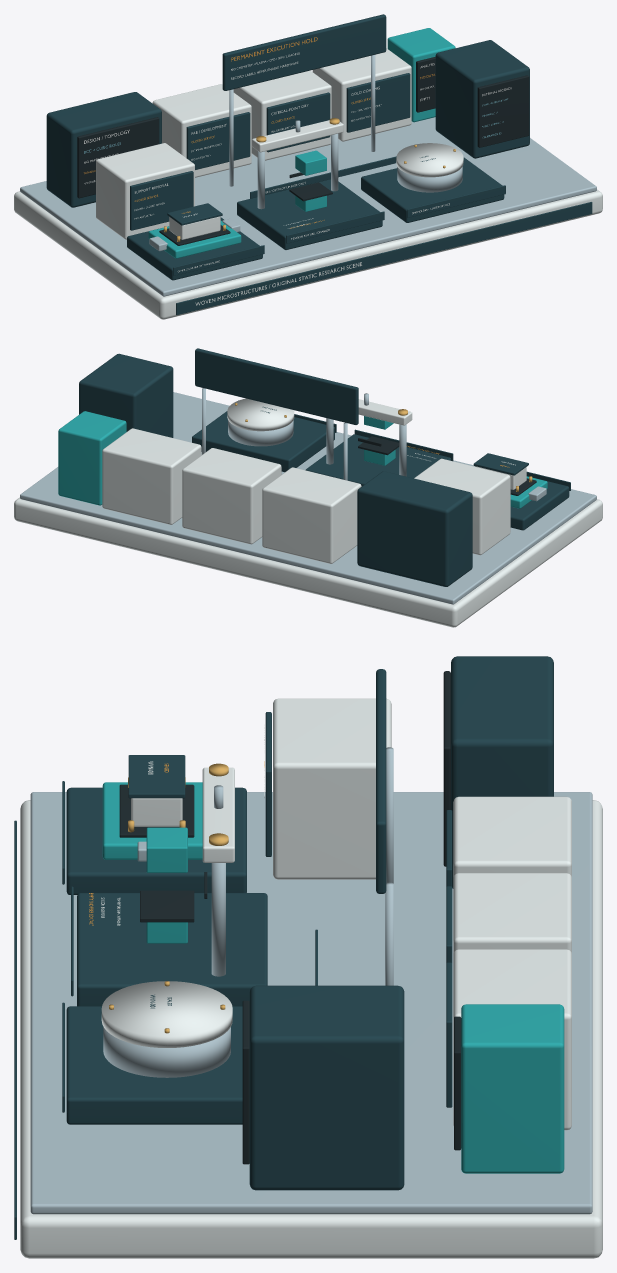
Rendered from woven_material_lab.glb.
3 renders of one model, top to bottom at view 1: azimuth 30°, elevation 25°; view 2: azimuth 150°, elevation 25°; view 3: azimuth 270°, elevation 25°, orthographic. The views are drawn at different scales.
Parts seen in each view (by area): view 1: bench.top, bench.base, records.body, hold.panel, design.body, bench.title.plate, tension.base, plasma.body, fab.body, sem.dock, cpd.body, coat.body (+27 smaller); view 2: bench.base, bench.top, design.body, fab.body, cpd.body, coat.body, hold.panel, records.body, analysis.body, plasma.body, sem.dock, tension.base (+9 smaller); view 3: bench.top, bench.base, records.body, plasma.body, analysis.body, tension.base, design.body, sem.dock, fab.body, cpd.body, carrier.dock, coat.body (+20 smaller).
Part boxes in pixels (left/top/right/bottom): bench.top: left=20, top=117, right=596, bottom=296; bench.base: left=14, top=189, right=602, bottom=319; records.body: left=435, top=40, right=529, bottom=158; hold.panel: left=222, top=14, right=386, bottom=90; design.body: left=46, top=92, right=161, bottom=207; bench.title.plate: left=176, top=202, right=592, bottom=315; tension.base: left=237, top=179, right=382, bottom=249; plasma.body: left=96, top=143, right=194, bottom=239; fab.body: left=152, top=84, right=251, bottom=177; sem.dock: left=361, top=157, right=504, bottom=222; cpd.body: left=233, top=70, right=331, bottom=160; coat.body: left=312, top=48, right=411, bottom=141; bench.base: left=14, top=497, right=602, bottom=627; bench.top: left=20, top=392, right=596, bottom=604; design.body: left=357, top=471, right=472, bottom=586; fab.body: left=262, top=467, right=361, bottom=563; cpd.body: left=182, top=448, right=281, bottom=544; coat.body: left=102, top=428, right=201, bottom=524; hold.panel: left=195, top=348, right=358, bottom=424; records.body: left=79, top=353, right=173, bottom=437; analysis.body: left=58, top=411, right=126, bottom=505; plasma.body: left=414, top=458, right=510, bottom=555; sem.dock: left=192, top=411, right=334, bottom=472; tension.base: left=305, top=434, right=451, bottom=486; bench.top: left=30, top=792, right=592, bottom=1214; bench.base: left=20, top=800, right=602, bottom=1258; records.body: left=249, top=985, right=404, bottom=1190; plasma.body: left=273, top=698, right=391, bottom=879; analysis.body: left=461, top=1004, right=564, bottom=1173; tension.base: left=77, top=893, right=267, bottom=1006; design.body: left=451, top=656, right=553, bottom=888; sem.dock: left=66, top=1006, right=242, bottom=1124; fab.body: left=453, top=796, right=571, bottom=877; cpd.body: left=453, top=873, right=571, bottom=953; carrier.dock: left=66, top=787, right=246, bottom=894; coat.body: left=453, top=949, right=571, bottom=1130.
Bounding box in the file's own units: 1.94 × 0.6805 × 1.14.
